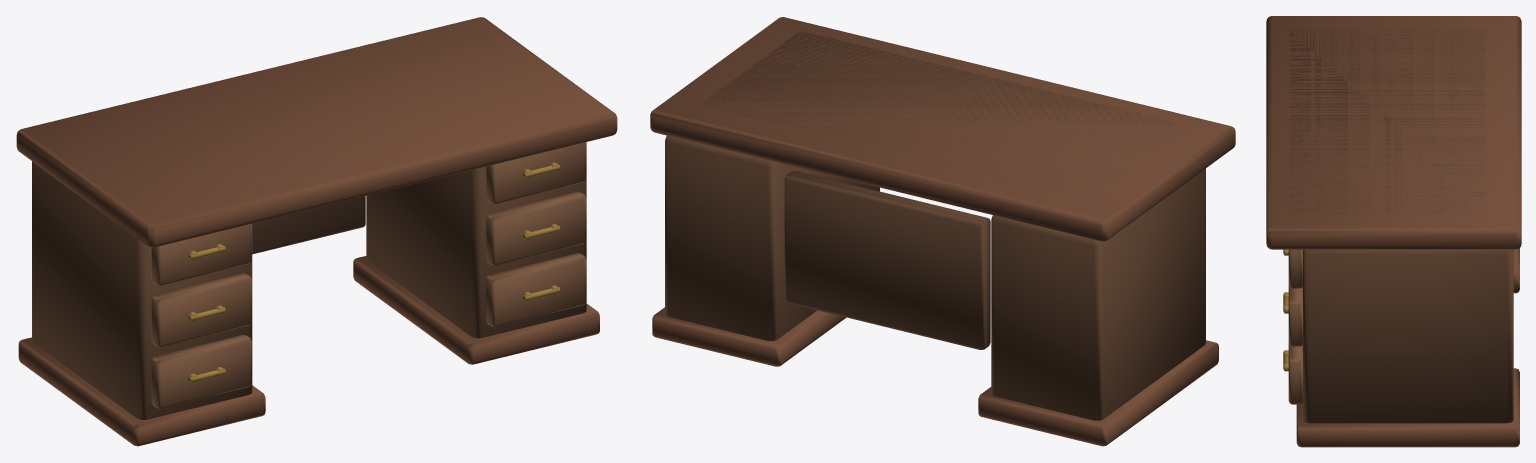
File: asset_066_office_laptop_desk.glb
The picture shows the model from 3 angles, left to right: view 1: azimuth 30°, elevation 25°; view 2: azimuth 150°, elevation 25°; view 3: azimuth 270°, elevation 25°; orthographic projection. The views are drawn at different scales.
Parts seen in each view (by area): view 1: MESH_DeskTop, MESH_OfficeDeskDrawerFrontSet, MESH_WestPedestal, MESH_EastPedestal, MESH_DeskPlinthSet, MESH_RearModestyPanel, MESH_OfficeDeskBrassPullSet; view 2: MESH_DeskTop, MESH_WestPedestal, MESH_RearModestyPanel, MESH_EastPedestal, MESH_DeskTopInset, MESH_DeskPlinthSet; view 3: MESH_DeskTop, MESH_EastPedestal, MESH_DeskTopInset, MESH_DeskPlinthSet, MESH_OfficeDeskDrawerFrontSet, MESH_OfficeDeskBrassPullSet.
Boxes of the visible parts, x1=… form: MESH_DeskTop: x1=16, y1=17, x2=617, y2=247; MESH_OfficeDeskDrawerFrontSet: x1=151, y1=142, x2=586, y2=408; MESH_WestPedestal: x1=32, y1=161, x2=252, y2=419; MESH_EastPedestal: x1=366, y1=142, x2=586, y2=338; MESH_DeskPlinthSet: x1=18, y1=256, x2=599, y2=446; MESH_RearModestyPanel: x1=252, y1=196, x2=365, y2=254; MESH_OfficeDeskBrassPullSet: x1=188, y1=162, x2=560, y2=383; MESH_DeskTop: x1=650, y1=17, x2=1235, y2=241; MESH_WestPedestal: x1=991, y1=168, x2=1205, y2=420; MESH_RearModestyPanel: x1=784, y1=171, x2=990, y2=349; MESH_EastPedestal: x1=665, y1=135, x2=879, y2=341; MESH_DeskTopInset: x1=703, y1=31, x2=1191, y2=198; MESH_DeskPlinthSet: x1=652, y1=307, x2=1218, y2=446; MESH_DeskTop: x1=1266, y1=16, x2=1521, y2=249; MESH_EastPedestal: x1=1303, y1=249, x2=1513, y2=423; MESH_DeskTopInset: x1=1289, y1=29, x2=1485, y2=214; MESH_DeskPlinthSet: x1=1296, y1=248, x2=1519, y2=447; MESH_OfficeDeskDrawerFrontSet: x1=1288, y1=249, x2=1302, y2=404; MESH_OfficeDeskBrassPullSet: x1=1283, y1=249, x2=1288, y2=371.
Bounding box in the file's own units: 1.6 × 0.76 × 0.8.
